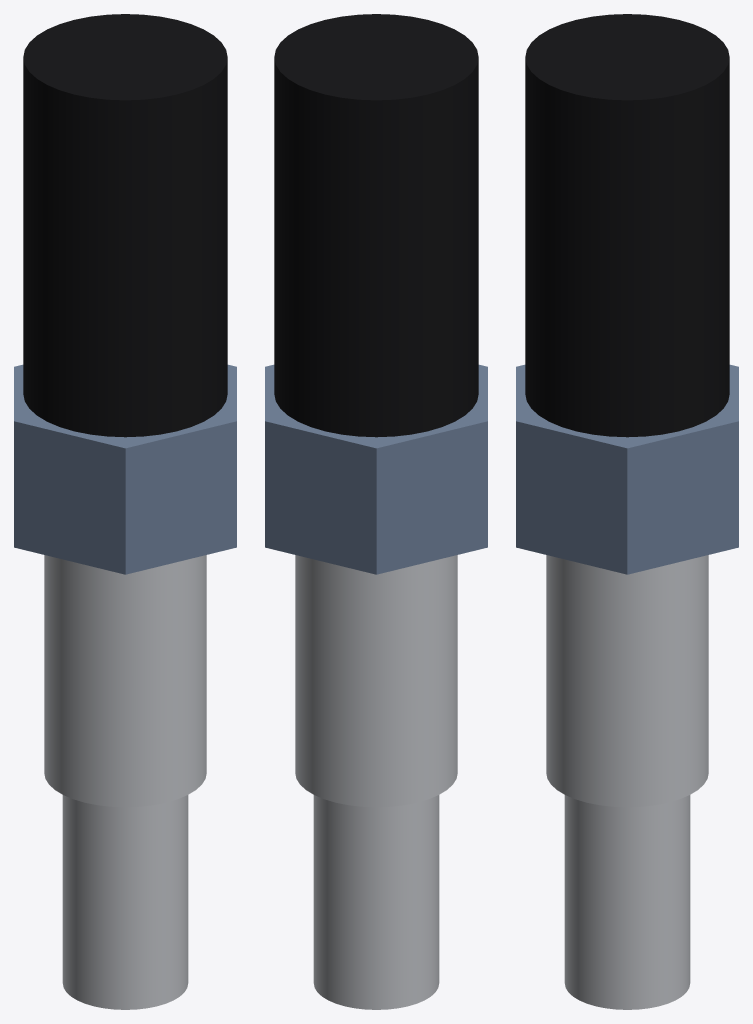
The model's file is demo-cartridge.glb.
The picture shows the model from 3 angles, left to right: view 1: azimuth 30°, elevation 25°; view 2: azimuth 150°, elevation 25°; view 3: azimuth 270°, elevation 25°; orthographic projection.
Parts seen in each view (by area): view 1: adjuster, thread, hex, nose; view 2: adjuster, thread, hex, nose; view 3: adjuster, thread, hex, nose.
Boxes of the visible parts, bbox=[...] form: adjuster: bbox=[23, 14, 227, 437]; thread: bbox=[44, 555, 206, 807]; hex: bbox=[14, 364, 236, 574]; nose: bbox=[62, 795, 188, 1009]; adjuster: bbox=[274, 14, 478, 437]; thread: bbox=[295, 555, 457, 807]; hex: bbox=[265, 364, 487, 574]; nose: bbox=[313, 795, 439, 1009]; adjuster: bbox=[525, 14, 729, 437]; thread: bbox=[546, 555, 708, 807]; hex: bbox=[516, 364, 738, 574]; nose: bbox=[564, 795, 690, 1009].
Size of the model in its own units: 0.0277 by 0.11 by 0.024.
